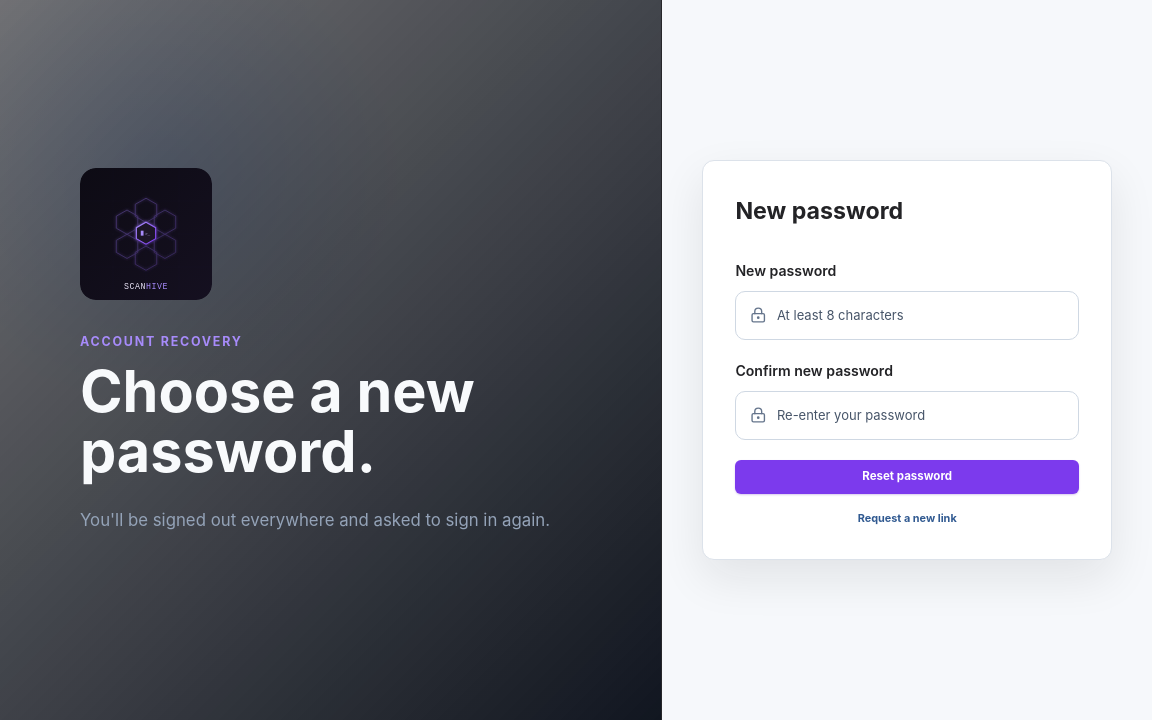
ResetPasswordPage › blocks submission when the passwords differ
Type "NewPassword456!" into the password field with placeholder "At least 8 characters" at (920, 316), box [777,292,1064,339]
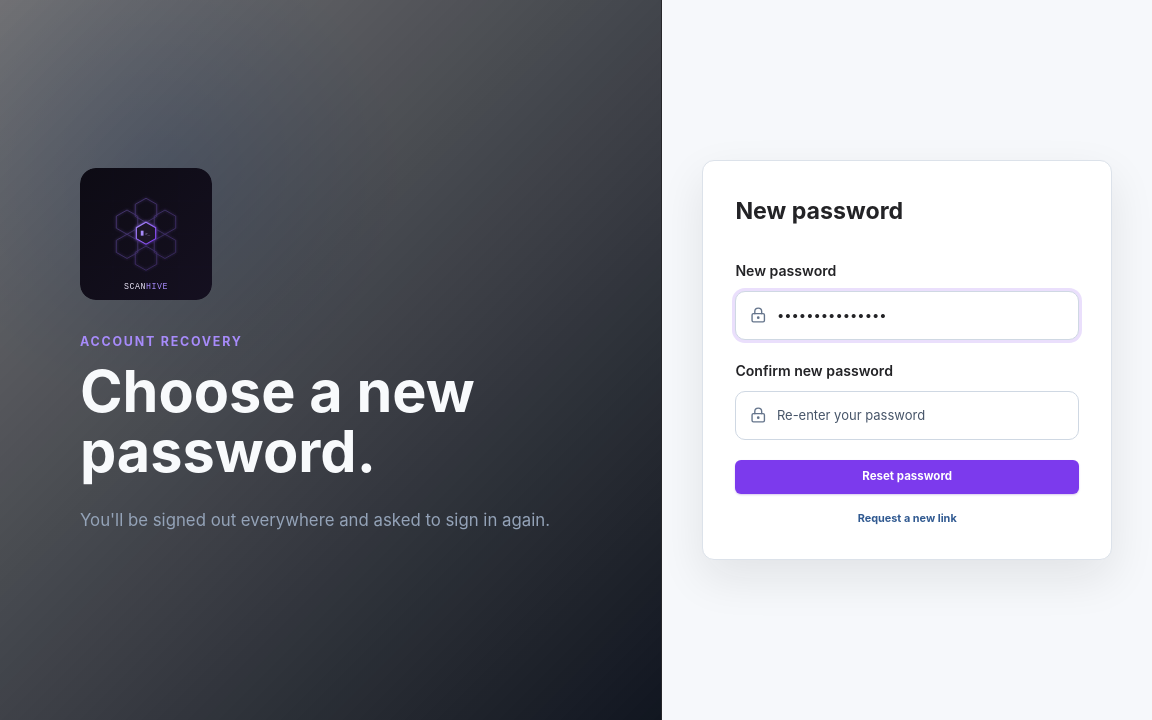
Type "Different789!" into the password field with placeholder "Re-enter your password" at (920, 415), box [777,392,1064,439]
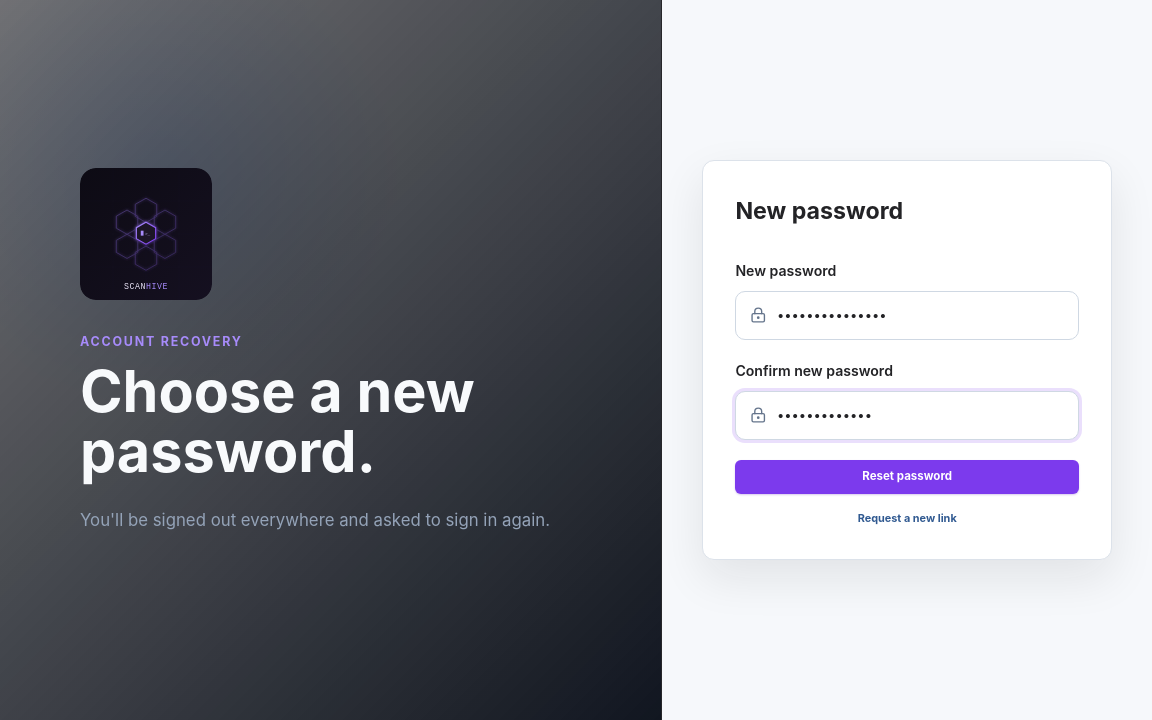
Click the button "Reset password" at (907, 477), box [735,460,1079,494]
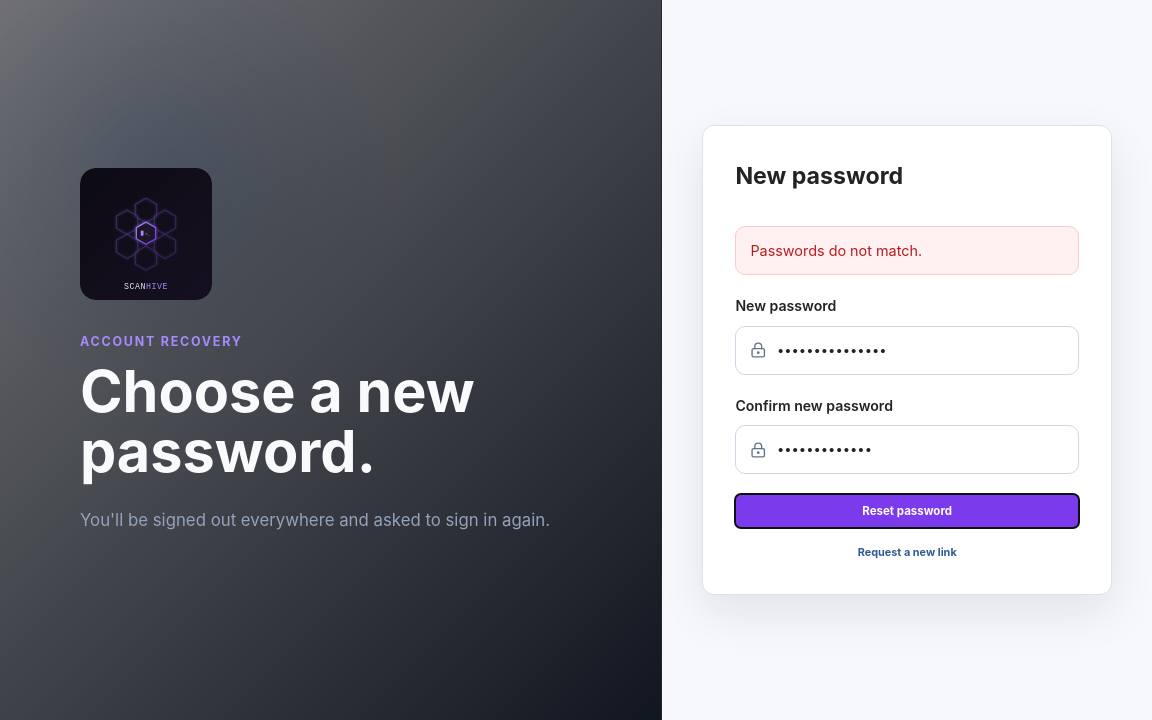
Check: the text "Passwords do not match." is shown, box [735,226,1079,275]
